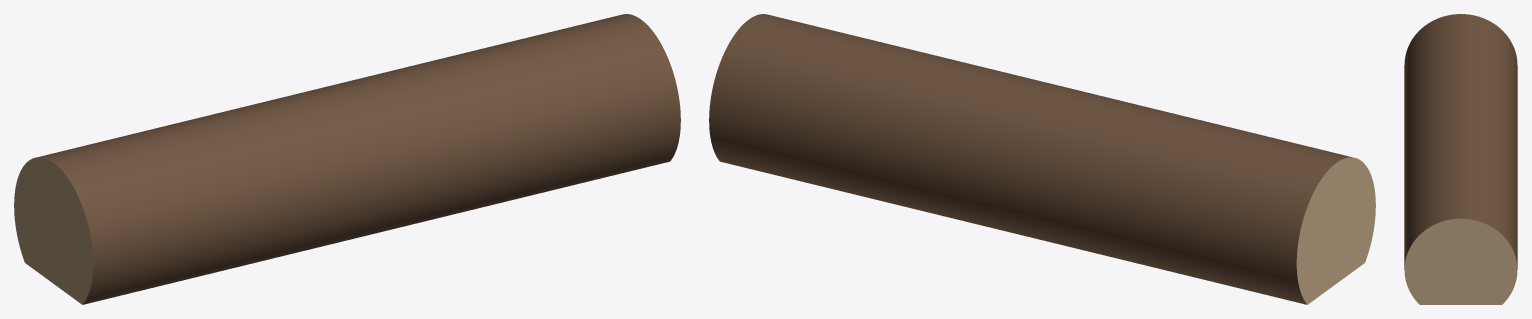
File: SM_RawLog_150_Hewn1.fbx
3 views of the same model, side by side, from view 1: azimuth 30°, elevation 25°; view 2: azimuth 150°, elevation 25°; view 3: azimuth 270°, elevation 25° (orthographic). The views are drawn at different scales.
Parts seen in each view (by area): view 1: RawLog_150_Hewn1; view 2: RawLog_150_Hewn1; view 3: RawLog_150_Hewn1.
Part boxes in pixels (x1=…): RawLog_150_Hewn1: x1=14, y1=14, x2=680, y2=304; RawLog_150_Hewn1: x1=709, y1=14, x2=1375, y2=304; RawLog_150_Hewn1: x1=1404, y1=14, x2=1517, y2=304.
Size of what is drawn, in the model's own units: 1.5 by 0.295 by 0.35.
